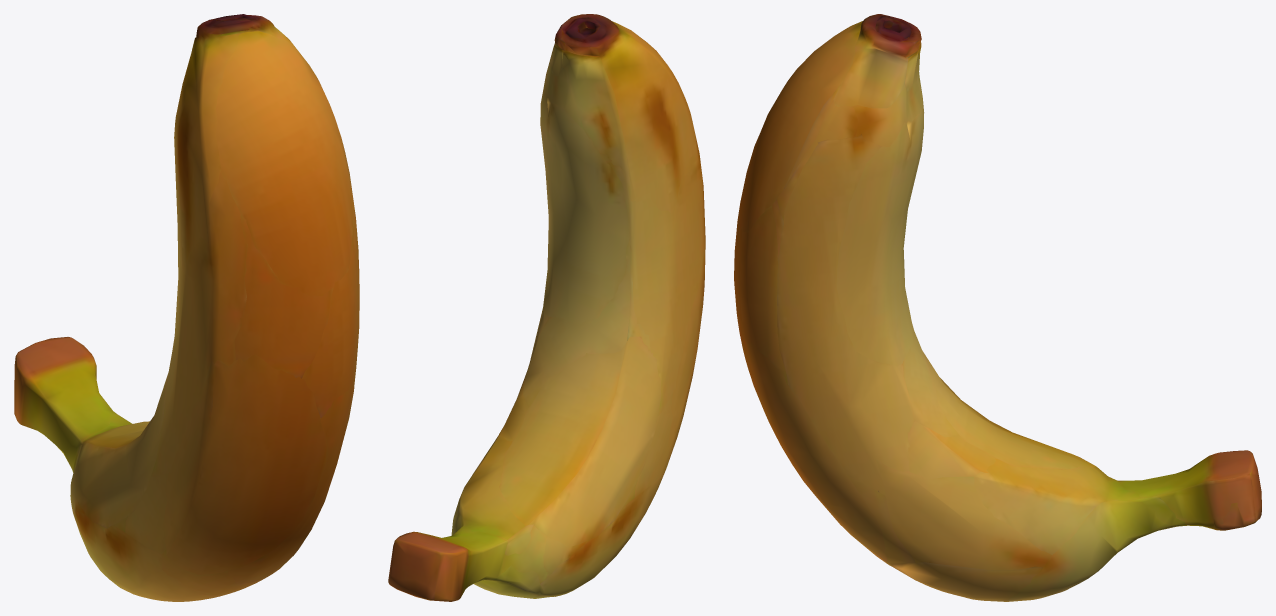
3 renders of one model, left to right at view 1: azimuth 30°, elevation 25°; view 2: azimuth 150°, elevation 25°; view 3: azimuth 270°, elevation 25°, orthographic. The views are drawn at different scales.
Parts seen in each view (by area): view 1: material; view 2: material; view 3: material.
Boxes of the visible parts, x1=… form: material: x1=14, y1=14, x2=359, y2=601; material: x1=388, y1=14, x2=705, y2=601; material: x1=734, y1=14, x2=1261, y2=601.
Size of the model in its own units: 0.2664 by 1 by 0.8433.
1 material, 1 textured.
